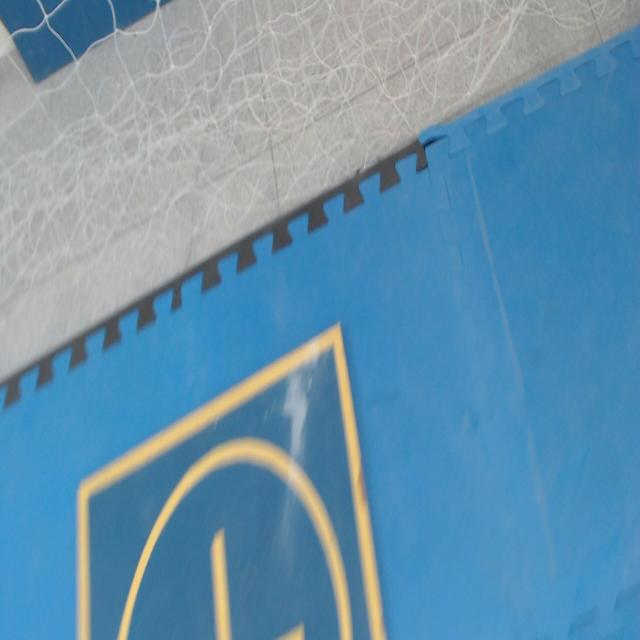base_pouso: (76, 321, 387, 639)
